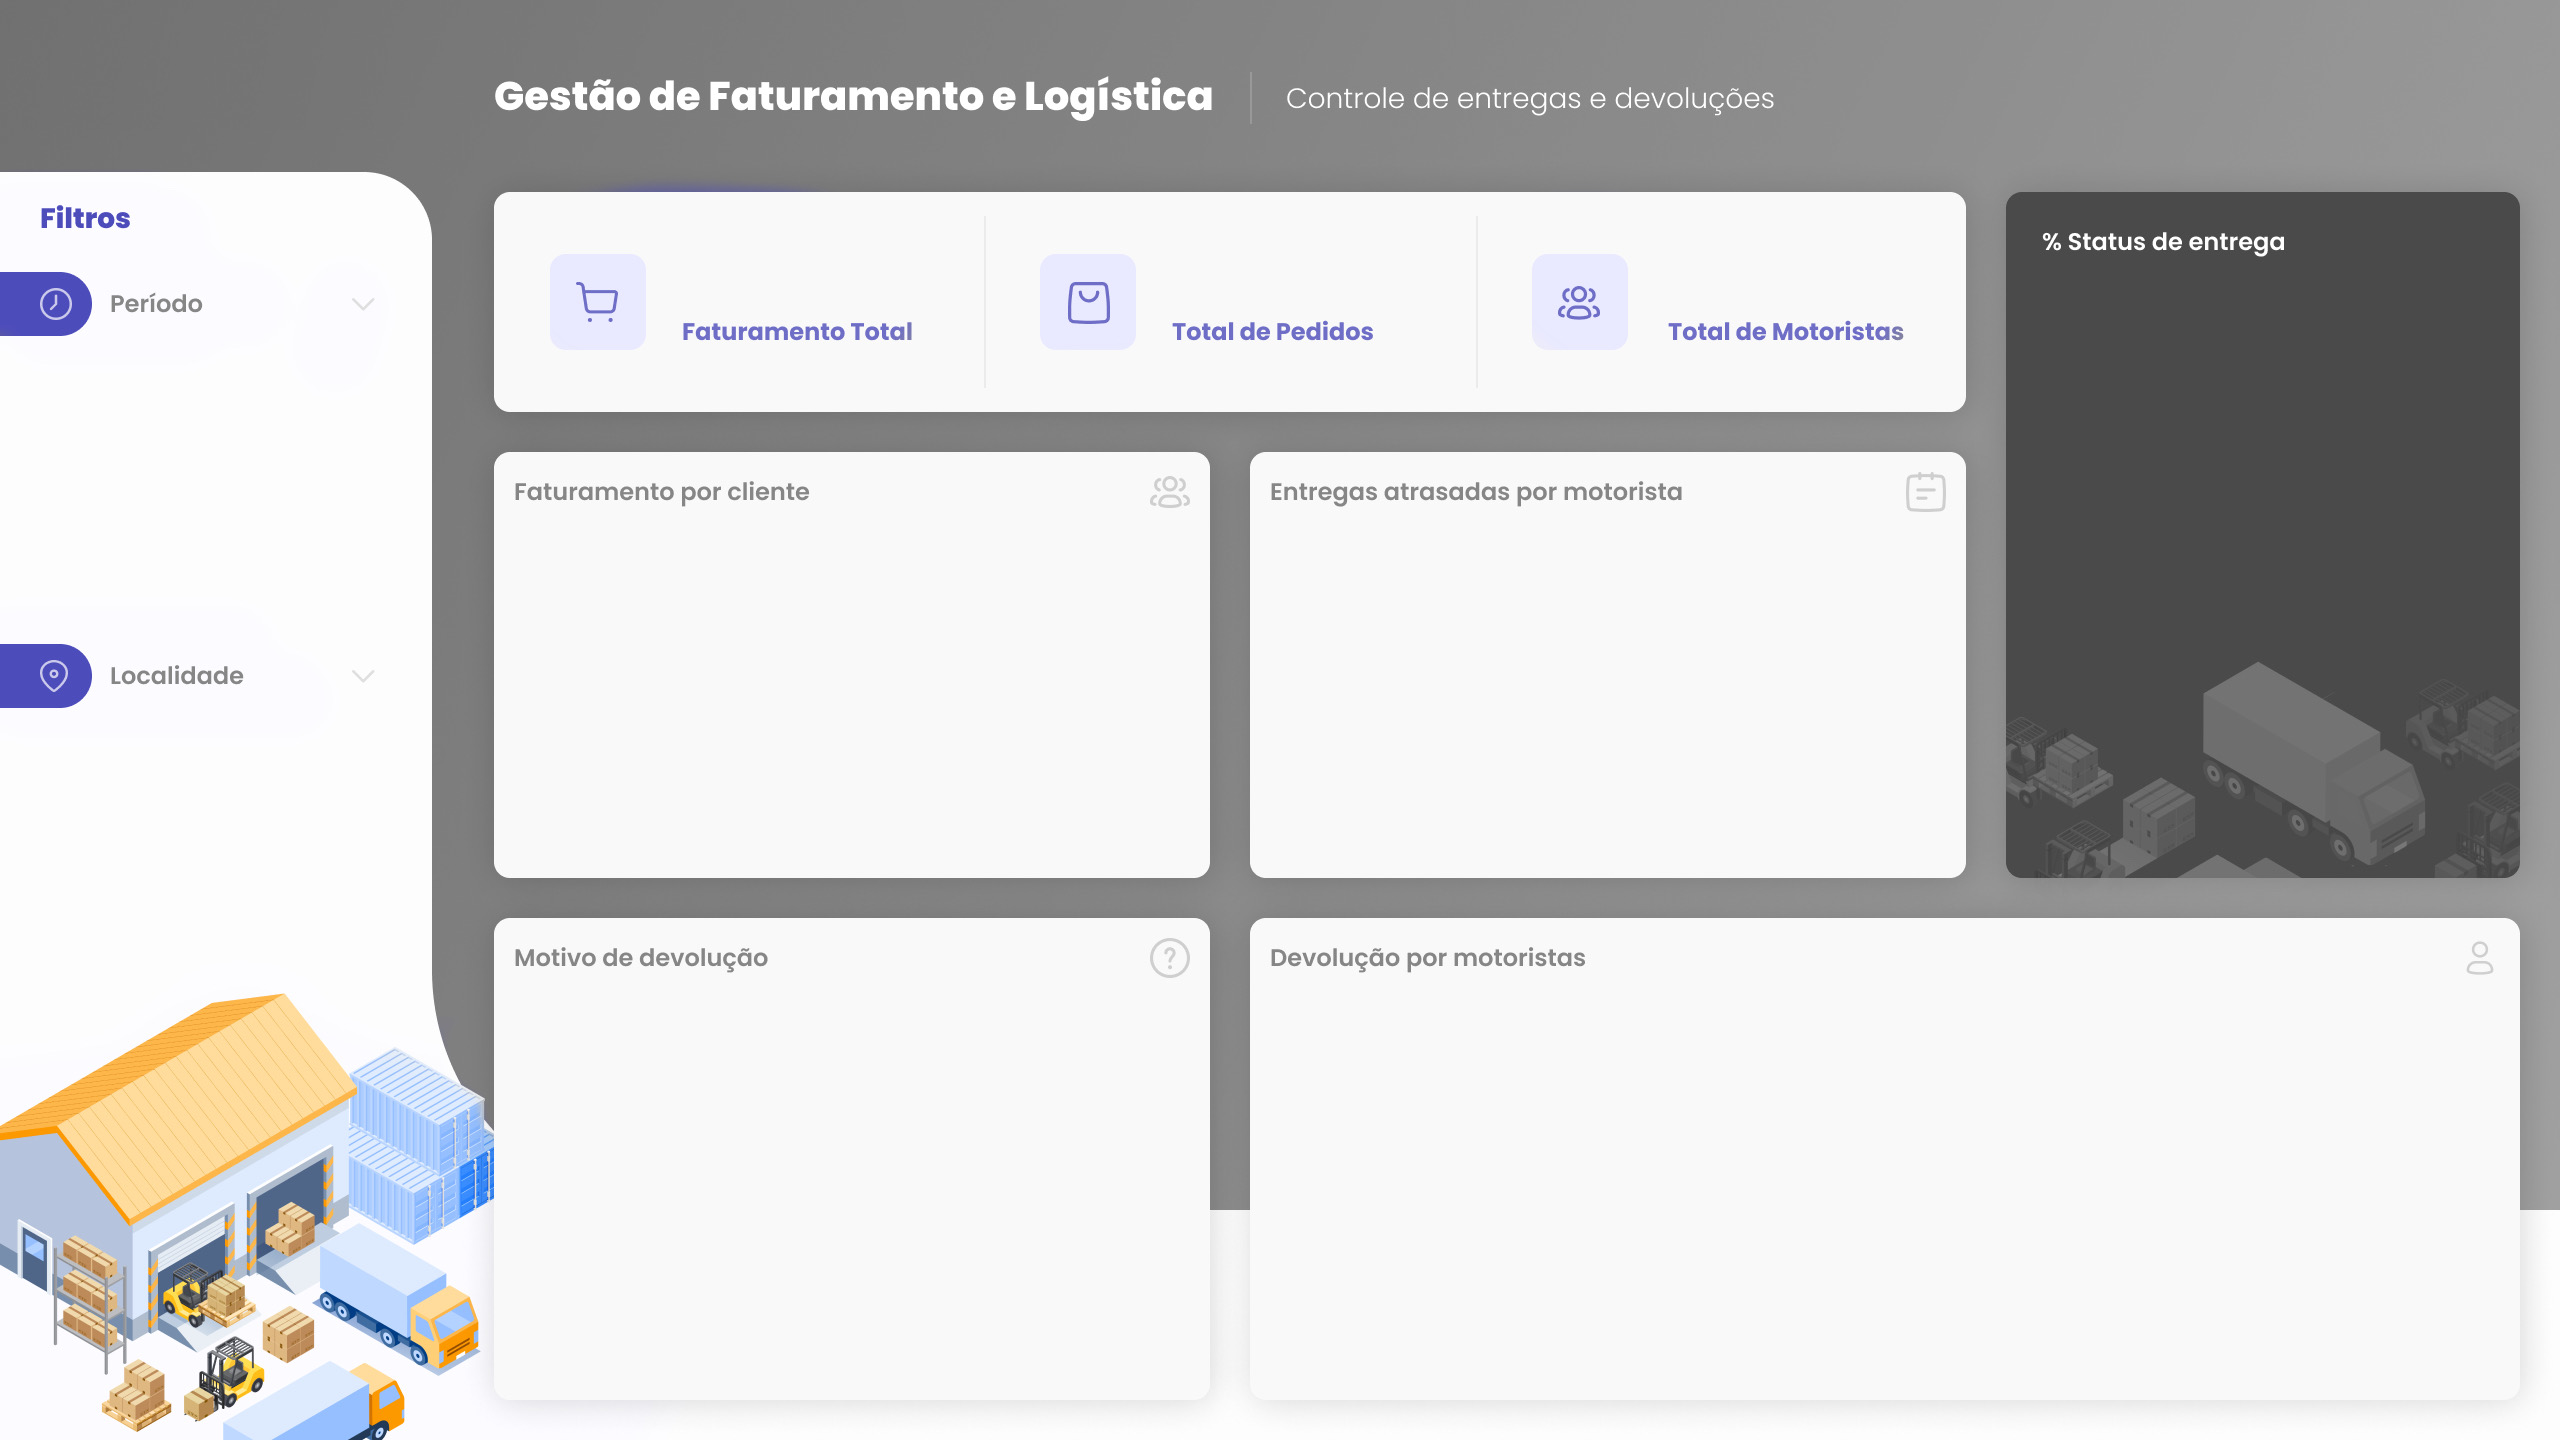

The dashboard page shown, as its layout file describes it:
{"tool":"powerbi","page":{"name":"Dashboard","canvas":[1280,720],"ordinal":0},"visuals":[{"type":"card","fields":{"Values":["Sum(baselogistica.R$ Faturados)"]},"box":[281.8,100.7,251.6,70.5],"z":0},{"type":"card","fields":{"Values":["CountNonNull(baselogistica.pedido)"]},"box":[515,77.2,248.3,115.8],"z":1000},{"type":"card","fields":{"Values":["Count(baselogistica.motorista)"]},"box":[775,77.2,229.8,115.8],"z":2000},{"type":"barChart","title":"Pedidos por Cliente","fields":{"Category":["baselogistica.cliente"],"Y":["CountNonNull(baselogistica.pedido)"]},"box":[248.3,239.9,355.6,196.3],"z":3000},{"type":"donutChart","title":"Pedidos por Status","fields":{"Category":["baselogistica.Status"],"Y":["CountNonNull(baselogistica.pedido)"]},"box":[1004.9,135.9,248.3,303.6],"z":4000},{"type":"slicer","fields":{"Values":["baselogistica.Data Emissão Pedido.Variation.Hierarquia de datas.Ano"]},"box":[38.6,159.4,102.3,161],"z":5000},{"type":"slicer","fields":{"Values":["baselogistica.Destino"]},"box":[38.6,348.9,102.3,156],"z":6000},{"type":"barChart","title":"Pedidos Atrasados por Motoristas","fields":{"Category":["baselogistica.motorista"],"Y":["CountNonNull(baselogistica.pedido)"]},"box":[625.7,256.7,352.3,169.4],"z":7000},{"type":"treemap","fields":{"Group":["baselogistica.Mot. Devolução"],"Values":["CountNonNull(baselogistica.pedido)"]},"box":[248.3,491.5,355.6,209.7],"z":8000},{"type":"hundredPercentStackedColumnChart","fields":{"Category":["baselogistica.motorista"],"Y":["CountNonNull(baselogistica.pedido)"],"Series":["baselogistica.Mot. Devolução"]},"box":[625.7,491.5,627.4,209.7],"z":9000}]}

Visuals, with their boxes in screenshot pixels (x1, y1, x2, y2), scaled from the page's 1280x720 canvas onto the 2560x1440 screenshot:
card - Sum(baselogistica.R$ Faturados): 564 201 1067 342
card - CountNonNull(baselogistica.pedido): 1030 154 1527 386
card - Count(baselogistica.motorista): 1550 154 2010 386
"Pedidos por Cliente" barChart: 497 480 1208 872
"Pedidos por Status" donutChart: 2010 272 2506 879
slicer - baselogistica.Data Emissão Pedido.Variation.Hierarquia de datas.Ano: 77 319 282 641
slicer - baselogistica.Destino: 77 698 282 1010
"Pedidos Atrasados por Motoristas" barChart: 1251 513 1956 852
treemap - baselogistica.Mot. Devolução x CountNonNull(baselogistica.pedido): 497 983 1208 1402
hundredPercentStackedColumnChart - baselogistica.motorista x CountNonNull(baselogistica.pedido): 1251 983 2506 1402
